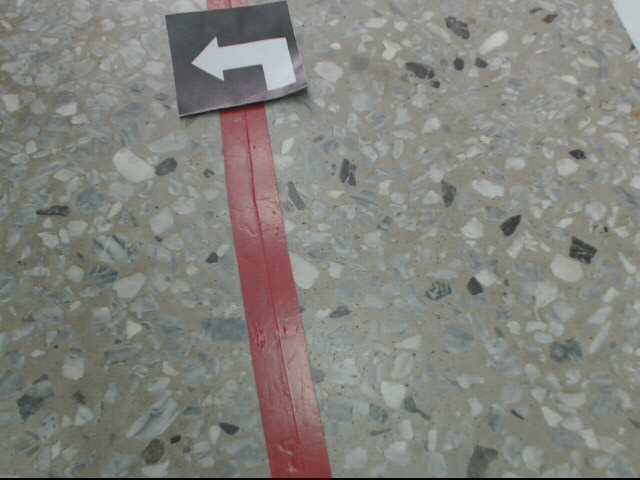left: (163, 1, 311, 117)
